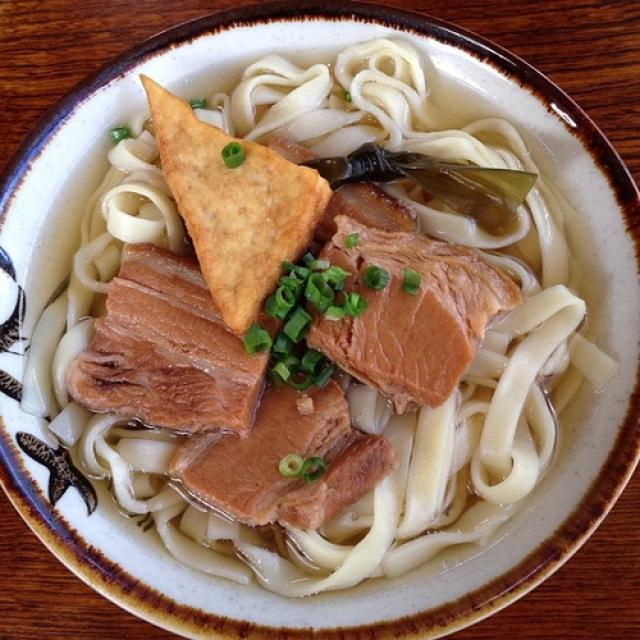鸡蛋料理: (29, 0, 617, 640)
